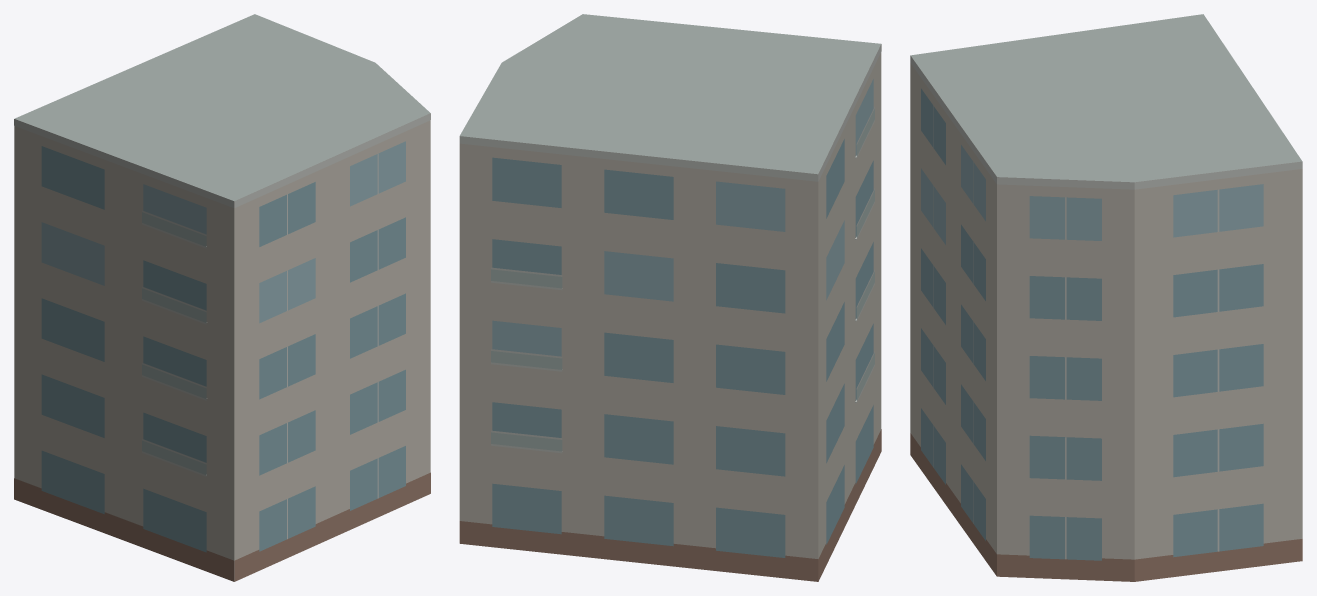
File: survey-upis-32527217.glb
The picture shows the model from 3 angles, left to right: view 1: azimuth 30°, elevation 25°; view 2: azimuth 150°, elevation 25°; view 3: azimuth 270°, elevation 25°; orthographic projection. The views are drawn at different scales.
Visible parts, largest first — view 1: survey-upis-32527217.tmp; view 2: survey-upis-32527217.tmp; view 3: survey-upis-32527217.tmp.
Part boxes in pixels (x1,y1,x2,y2): survey-upis-32527217.tmp: (14, 14, 430, 581); survey-upis-32527217.tmp: (459, 14, 881, 581); survey-upis-32527217.tmp: (910, 14, 1302, 581).
Bounding box in the file's own units: 11.93 × 13.2 × 11.75.
